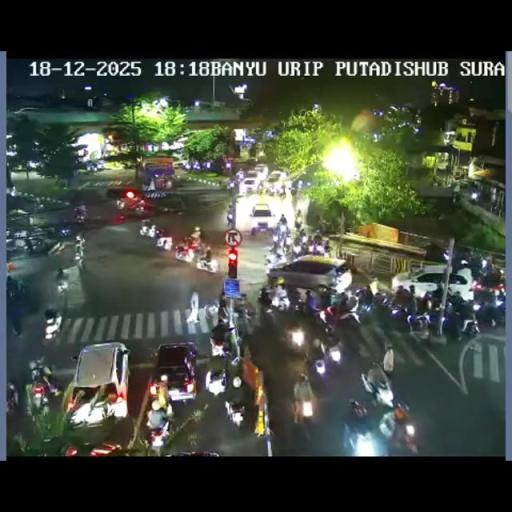Car: (64, 341, 130, 426), (266, 254, 350, 294), (150, 342, 198, 406), (392, 264, 472, 300), (248, 202, 276, 234), (154, 194, 186, 214), (241, 176, 260, 194), (268, 170, 286, 183), (253, 164, 269, 178), (172, 159, 189, 169)
Motorcycle: (261, 276, 422, 451), (379, 404, 417, 453), (342, 403, 378, 453), (290, 391, 318, 437), (362, 370, 394, 408), (312, 334, 342, 374), (317, 299, 359, 327), (146, 406, 171, 450), (204, 354, 230, 394), (29, 374, 52, 416), (474, 298, 504, 330), (450, 305, 476, 341), (40, 434, 79, 456), (370, 295, 398, 325), (405, 308, 430, 340), (234, 304, 255, 338), (210, 318, 232, 350), (224, 398, 246, 429), (285, 322, 306, 352), (195, 251, 218, 274), (264, 246, 288, 268), (6, 274, 26, 300), (286, 286, 304, 314), (44, 314, 62, 340), (354, 293, 374, 316), (304, 290, 322, 315), (6, 380, 19, 414), (174, 242, 194, 264), (204, 298, 218, 327), (382, 342, 394, 374), (394, 285, 412, 306), (140, 222, 162, 239), (47, 239, 68, 256), (258, 285, 274, 307), (54, 220, 74, 237), (72, 246, 86, 270), (155, 234, 173, 252), (453, 256, 471, 273), (132, 201, 150, 217), (56, 274, 69, 296), (188, 226, 202, 246), (217, 294, 228, 319), (266, 183, 284, 198), (309, 242, 327, 256), (289, 180, 302, 196), (281, 236, 292, 254), (318, 216, 329, 234), (74, 211, 86, 226), (25, 238, 36, 254), (74, 231, 85, 246), (115, 196, 126, 210), (292, 242, 303, 256), (296, 228, 306, 243), (271, 231, 281, 244), (226, 210, 234, 224), (94, 160, 105, 170), (294, 218, 302, 231), (86, 162, 96, 172), (313, 232, 322, 243), (278, 214, 286, 226)
